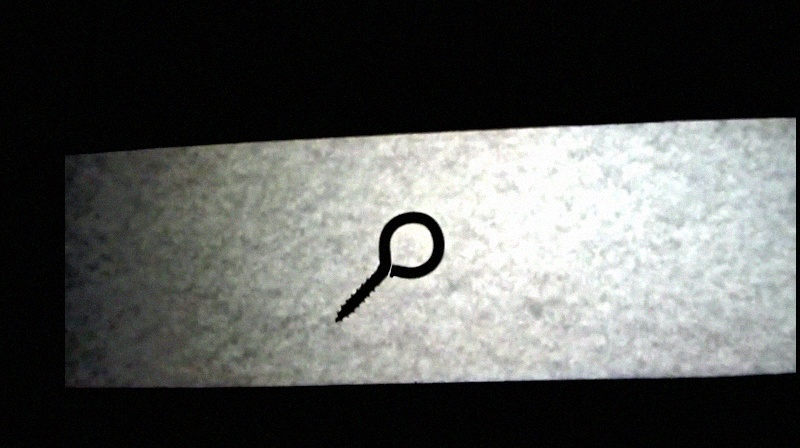O001: (332, 207, 451, 324)
